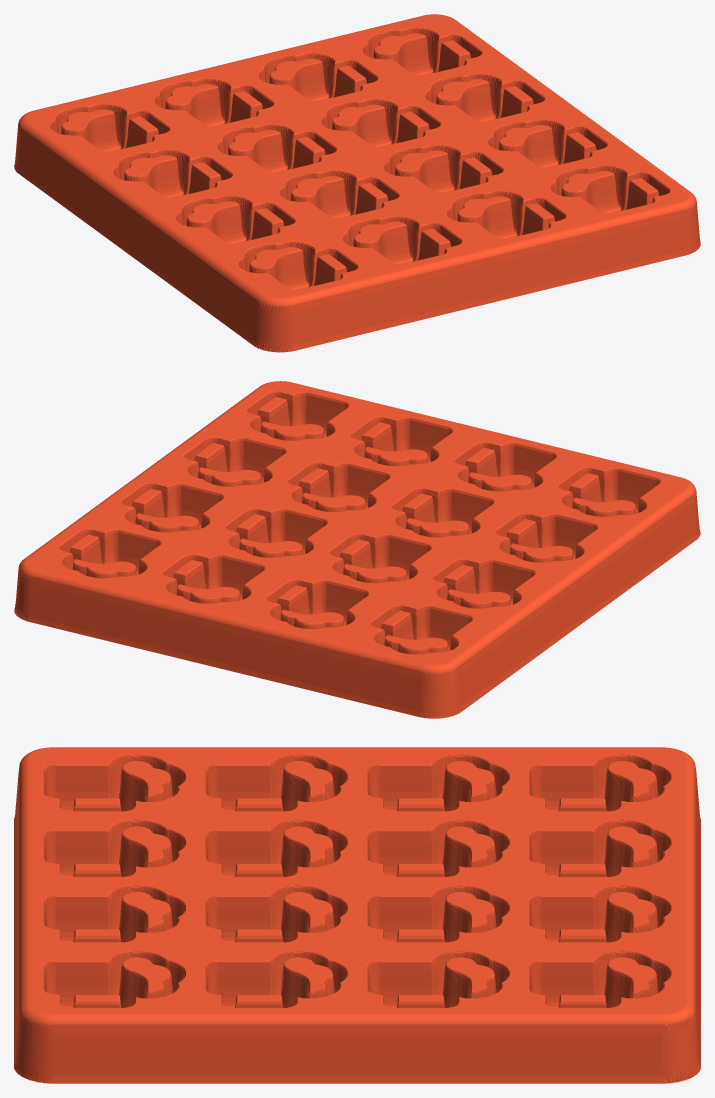
The model's file is mold.glb.
3 renders of one model, top to bottom at view 1: azimuth 30°, elevation 25°; view 2: azimuth 150°, elevation 25°; view 3: azimuth 270°, elevation 25°, orthographic. The views are drawn at different scales.
Visible parts, largest first — view 1: geometry_0; view 2: geometry_0; view 3: geometry_0.
Boxes of the visible parts, x1=… form: geometry_0: x1=14, y1=14, x2=700, y2=352; geometry_0: x1=14, y1=381, x2=700, y2=718; geometry_0: x1=14, y1=747, x2=700, y2=1083.
Size of the model in its own units: 0.1507 by 0.0159 by 0.1569.
